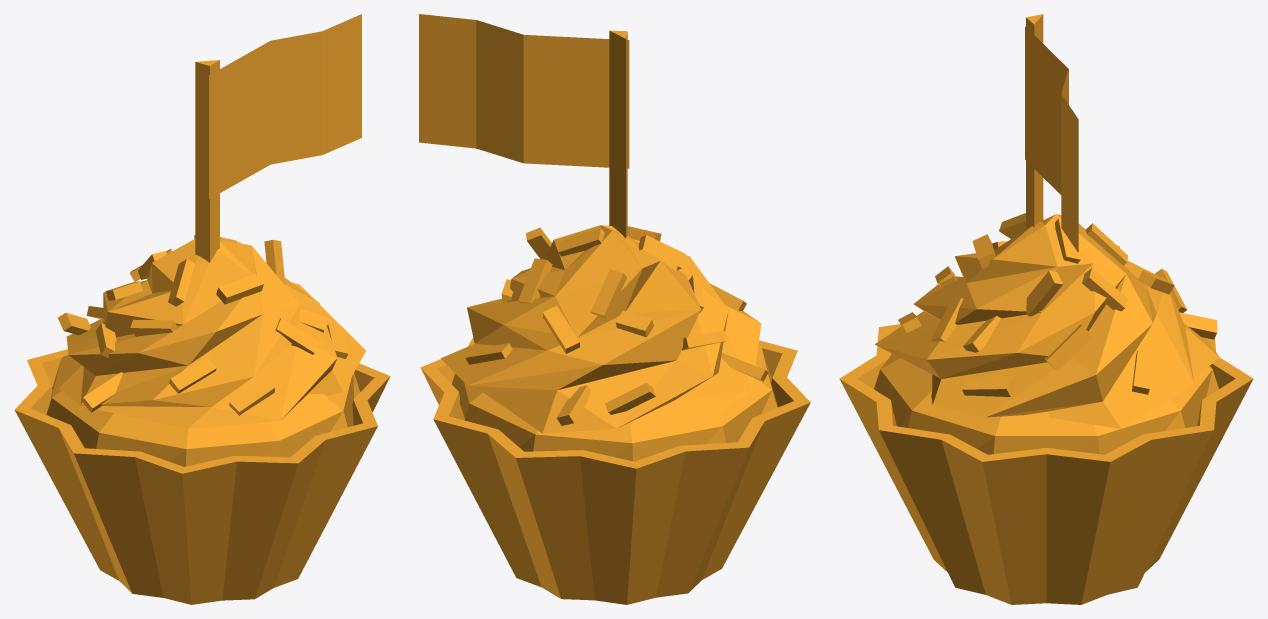
File: SM_Cupcake_4july_A.fbx
3 views of the same model, side by side, from view 1: azimuth 30°, elevation 25°; view 2: azimuth 150°, elevation 25°; view 3: azimuth 270°, elevation 25° (orthographic). The views are drawn at different scales.
Visible parts, largest first — view 1: cupcake-4july-a; view 2: cupcake-4july-a; view 3: cupcake-4july-a.
Part boxes in pixels (x1,y1,x2,y2): cupcake-4july-a: (14,14,390,604); cupcake-4july-a: (419,14,810,604); cupcake-4july-a: (839,14,1253,604).
Bounding box in the file's own units: 0.0995 × 0.1435 × 0.0996.
